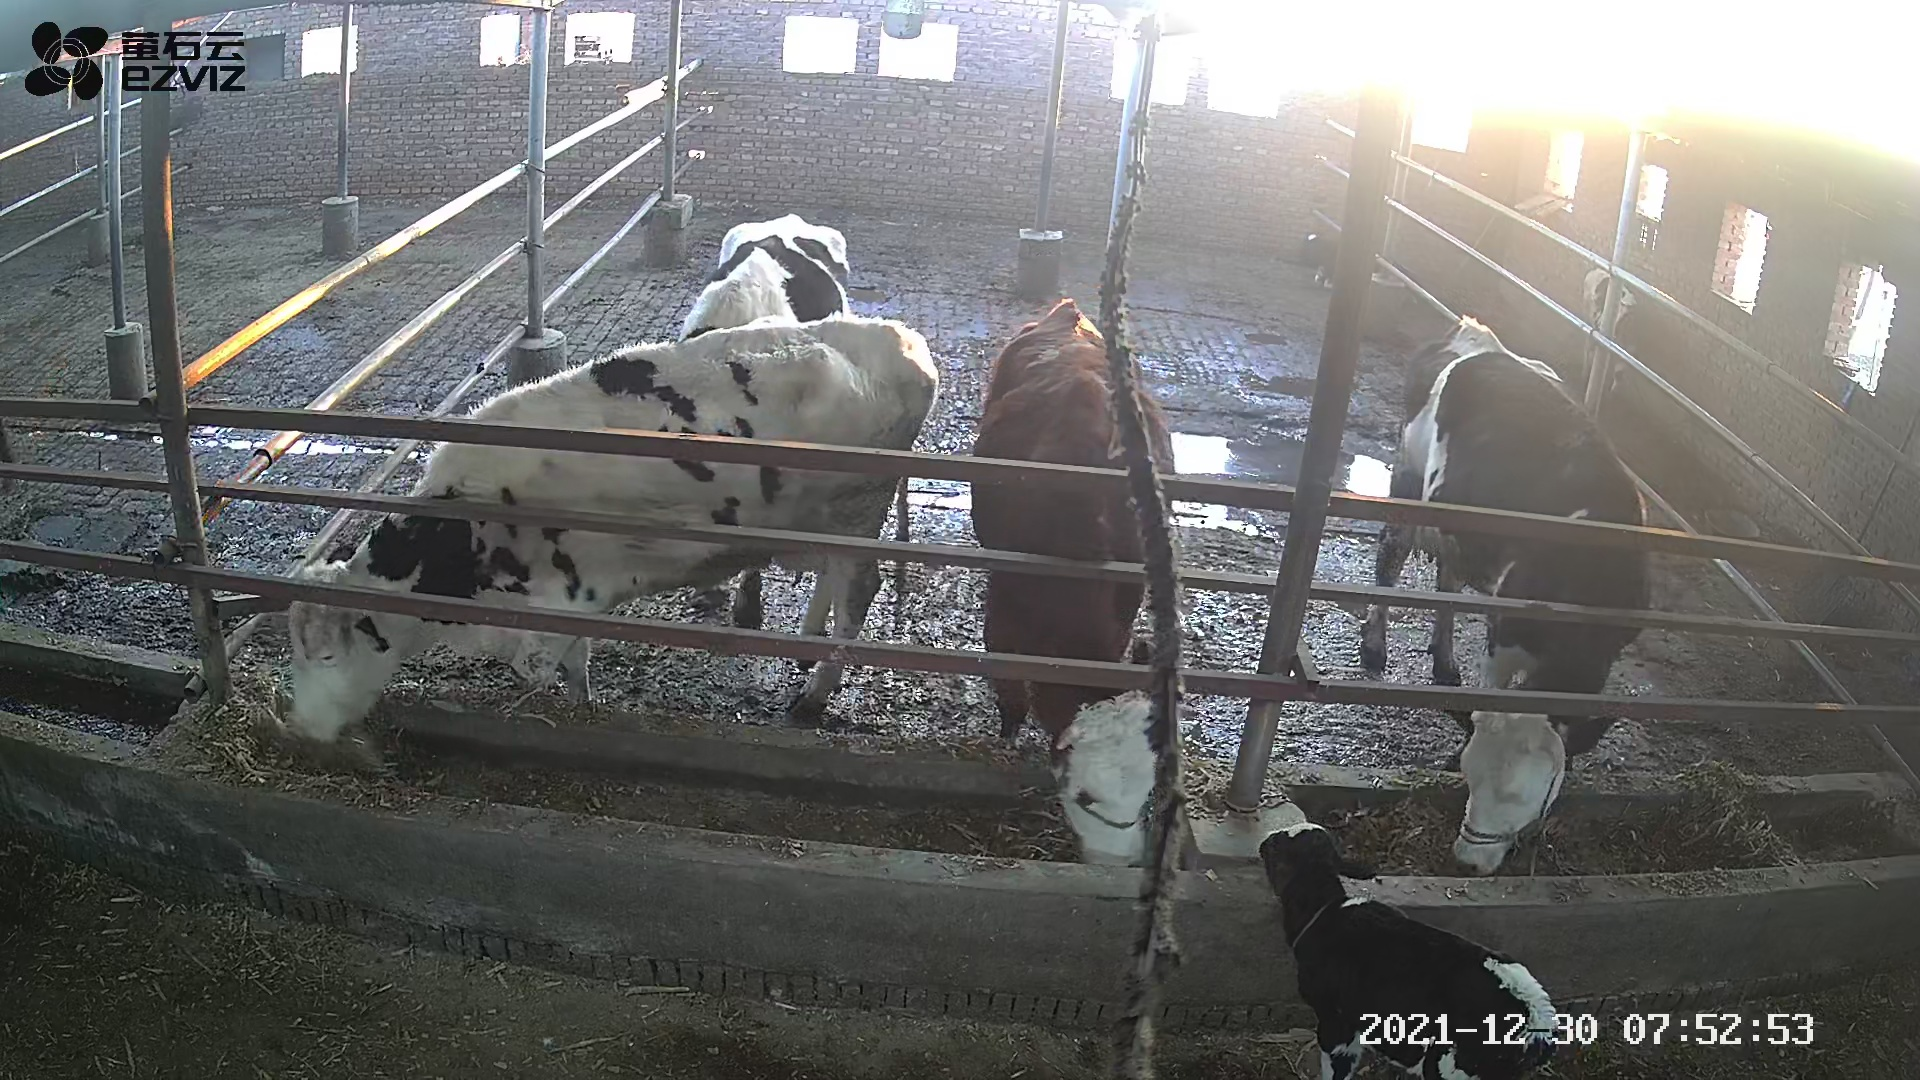cow: (284, 313, 938, 745), (1357, 313, 1652, 878), (967, 295, 1178, 868), (676, 214, 851, 632)
